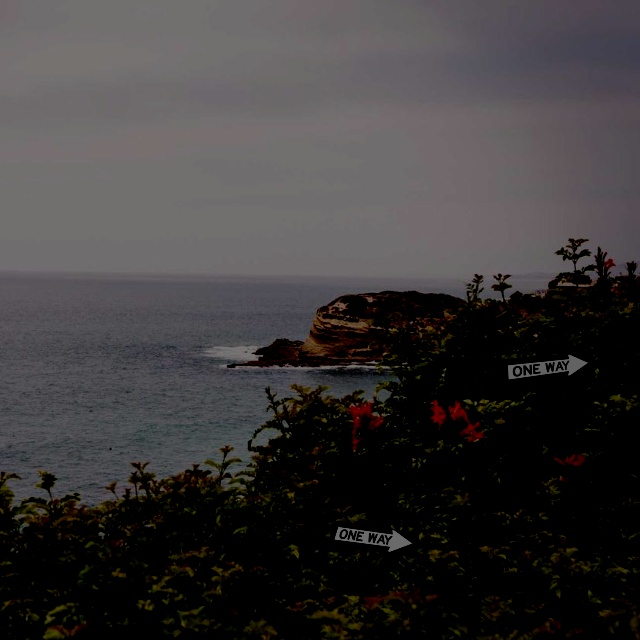ONE_WAY_ right: (326, 520, 419, 557), (500, 351, 593, 388)
